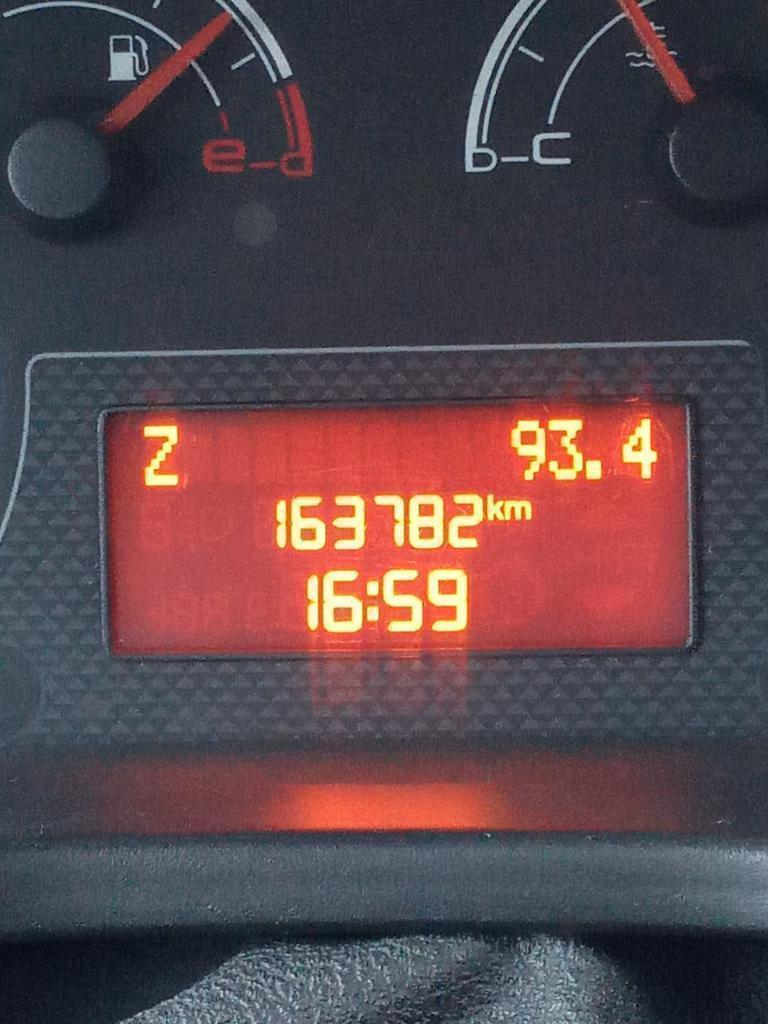,: (585, 457, 606, 482)
1: (304, 569, 320, 634), (273, 494, 289, 551)
2: (449, 492, 484, 550)
3: (547, 412, 585, 483), (330, 492, 365, 552)
4: (620, 416, 664, 486)
5: (383, 567, 424, 632)
6: (322, 566, 361, 634), (290, 492, 326, 552)
7: (370, 491, 406, 548)
8: (407, 491, 445, 550)
9: (427, 568, 468, 633), (510, 416, 547, 484)
X: (138, 422, 184, 491), (362, 578, 382, 625), (504, 498, 535, 522), (485, 490, 503, 522)
odometer: (97, 386, 700, 663)
